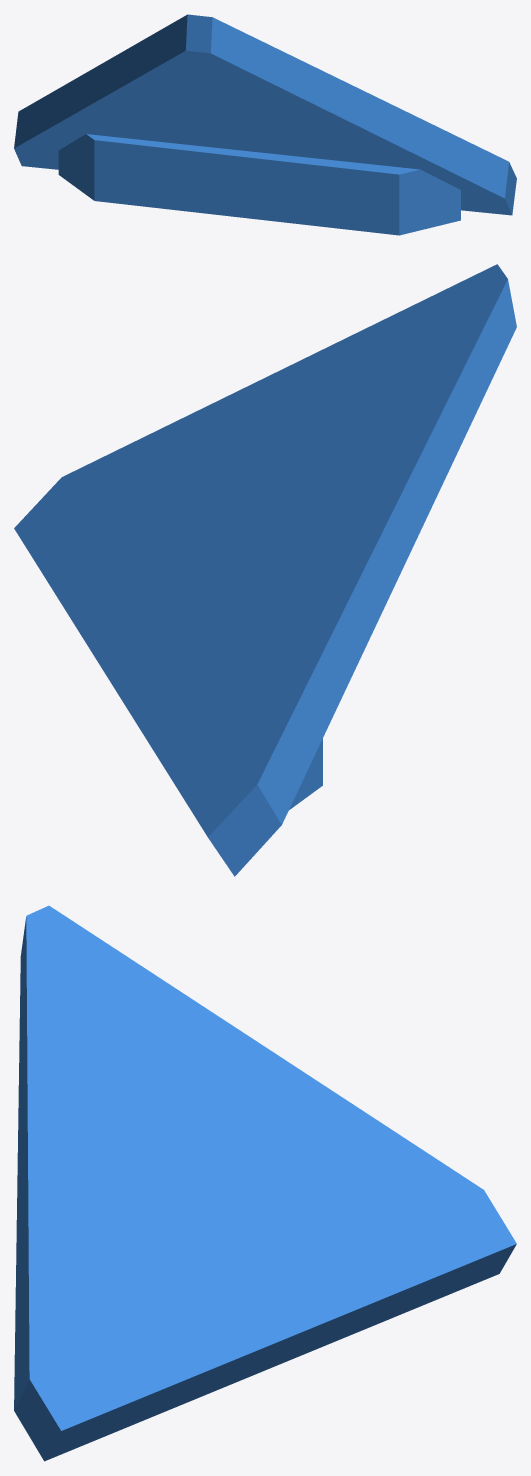
Rendered from Collision_Roof_Wooden_2x1_Corner.fbx.
3 renders of one model, top to bottom at view 1: azimuth 30°, elevation 25°; view 2: azimuth 150°, elevation 25°; view 3: azimuth 270°, elevation 25°, orthographic. The views are drawn at different scales.
Parts seen in each view (by area): view 1: UCX_Roof_Wooden_2x1_Corner_1; view 2: UCX_Roof_Wooden_2x1_Corner_1; view 3: UCX_Roof_Wooden_2x1_Corner_1.
Part boxes in pixels (bbox=[...]): UCX_Roof_Wooden_2x1_Corner_1: bbox=[14, 14, 516, 235]; UCX_Roof_Wooden_2x1_Corner_1: bbox=[14, 264, 516, 876]; UCX_Roof_Wooden_2x1_Corner_1: bbox=[14, 905, 516, 1461].
Size of the model in its own units: 156 by 123 by 156.
